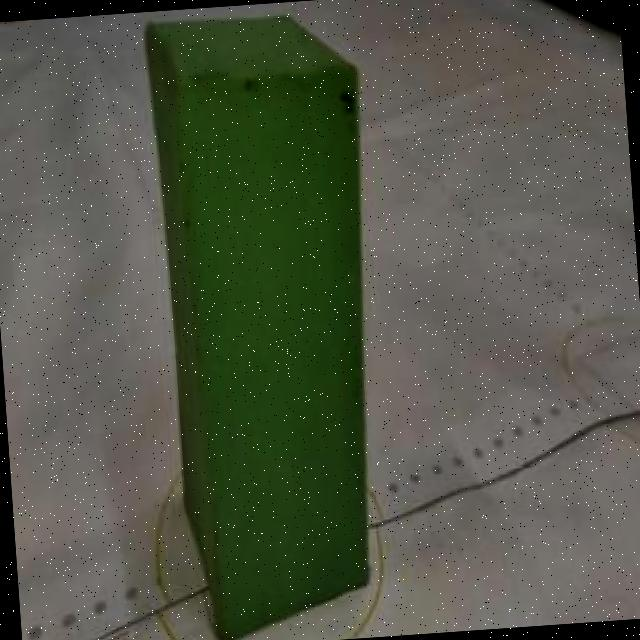greenbox: (143, 3, 394, 640)
